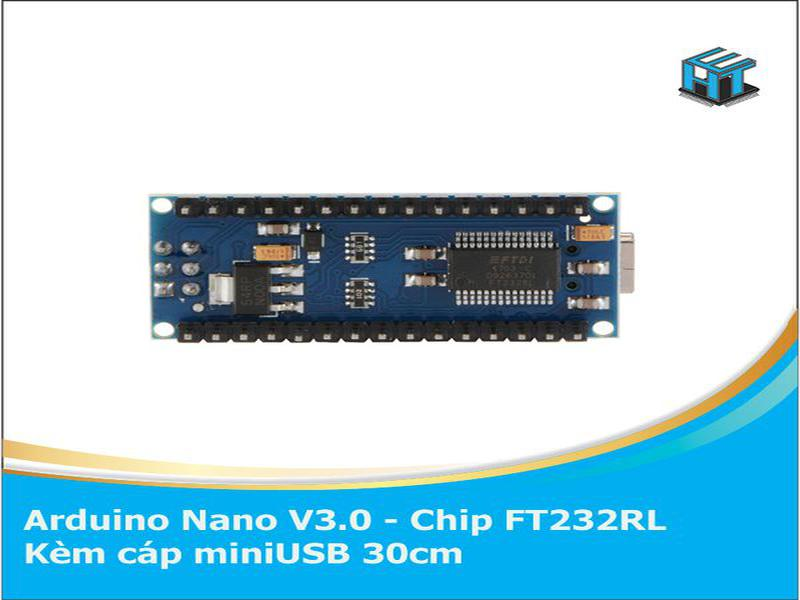Arduino_Nano: (145, 191, 639, 346)
